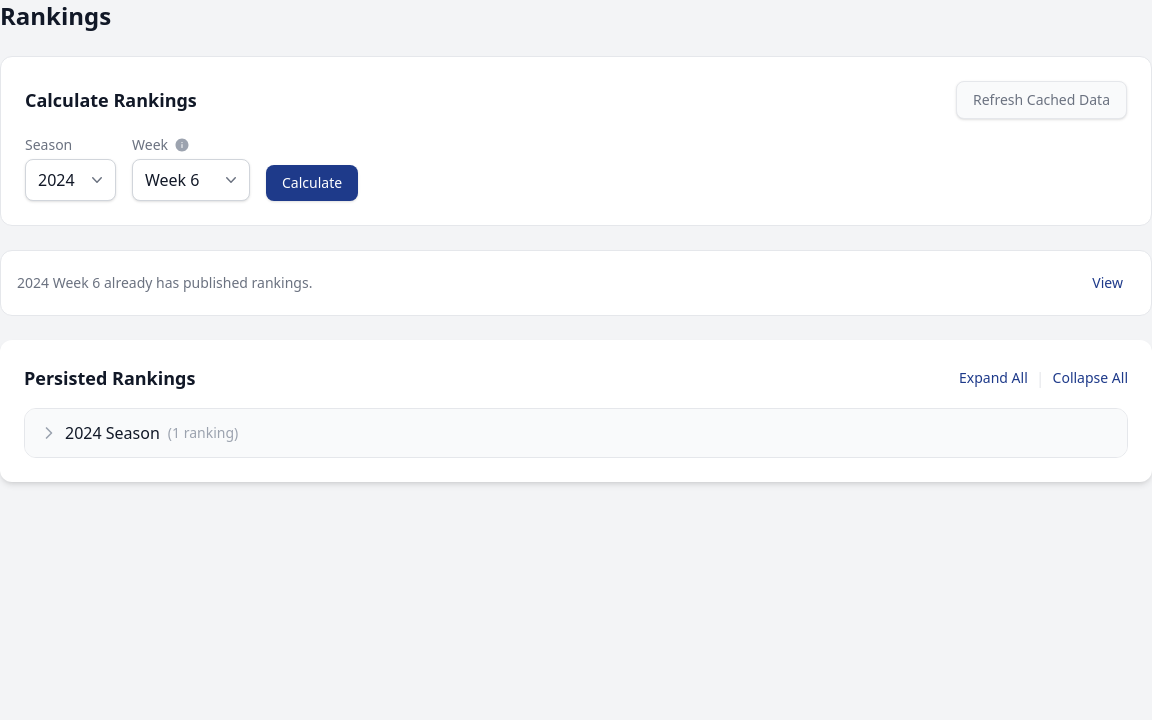
RankingsSnapshotsPage › shows a confirm modal instead of calculating immediately when the selected week already has a published rankings snapshot
This screenshot has width=1152, height=720.
What coordinates should you click on to do the following:
click the button "Calculate"
I would click on:
 (312, 183)
Its box is [266,165,358,201].
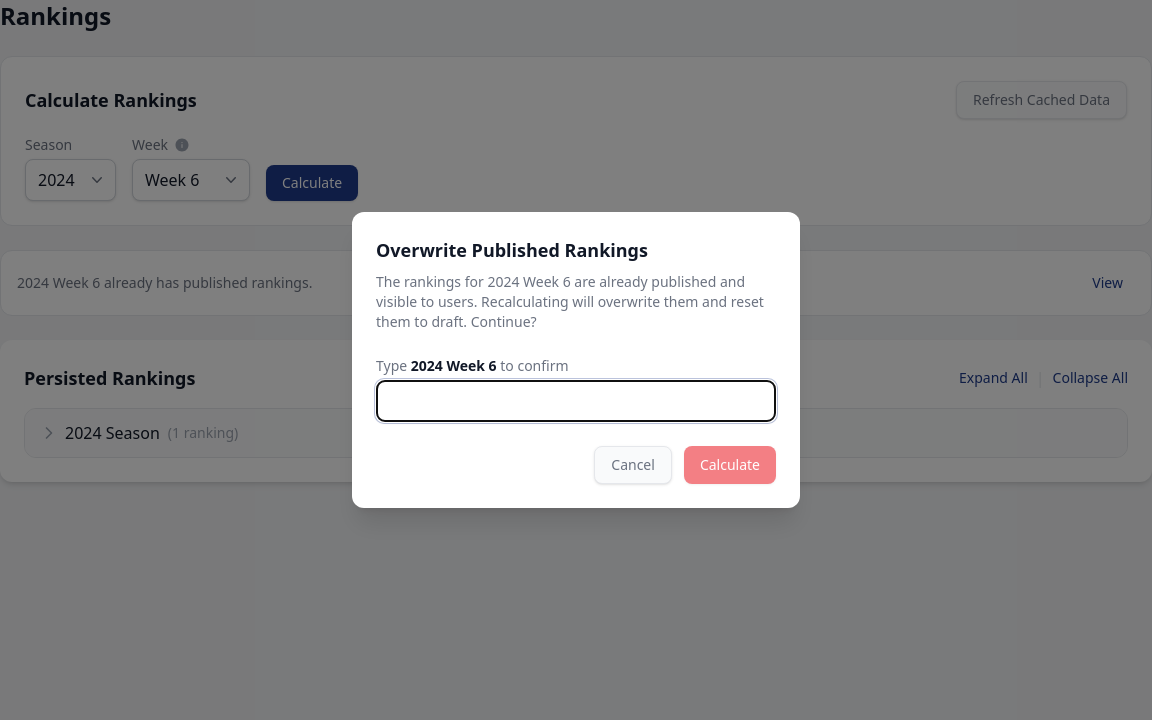
Expected: the heading "Overwrite Published Rankings" is shown, [376,238,648,262]
